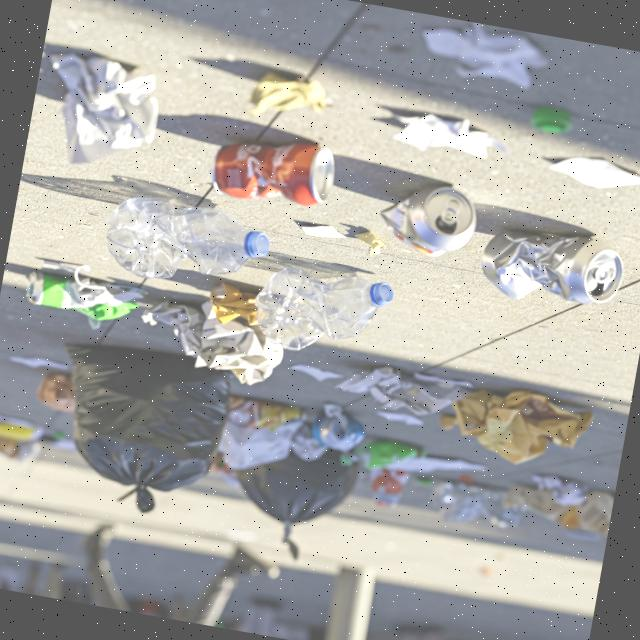aluminum: (474, 216, 632, 331), (202, 120, 342, 238), (374, 176, 482, 272)
paper: (24, 45, 180, 183), (450, 376, 592, 474), (384, 99, 504, 173), (536, 138, 640, 211)
plastic: (93, 182, 276, 308), (245, 249, 397, 364)
